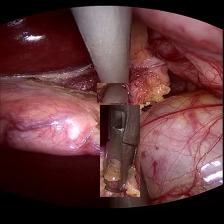Grasper: (100, 104, 140, 196)
Irrigator: (97, 82, 134, 102)
